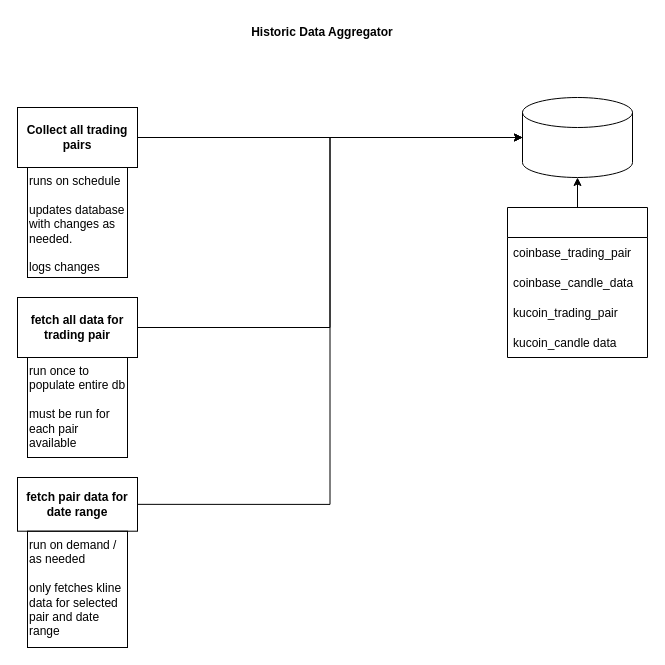
This 665x665 diagram has some shape labels left out. The shapes that lost their labels are listed below. From the top down, each one's box as (x1, y1, x2, y2) in pixels, then its label:
(522, 96, 632, 178): timescaledb
(506, 206, 648, 358): historic_data
